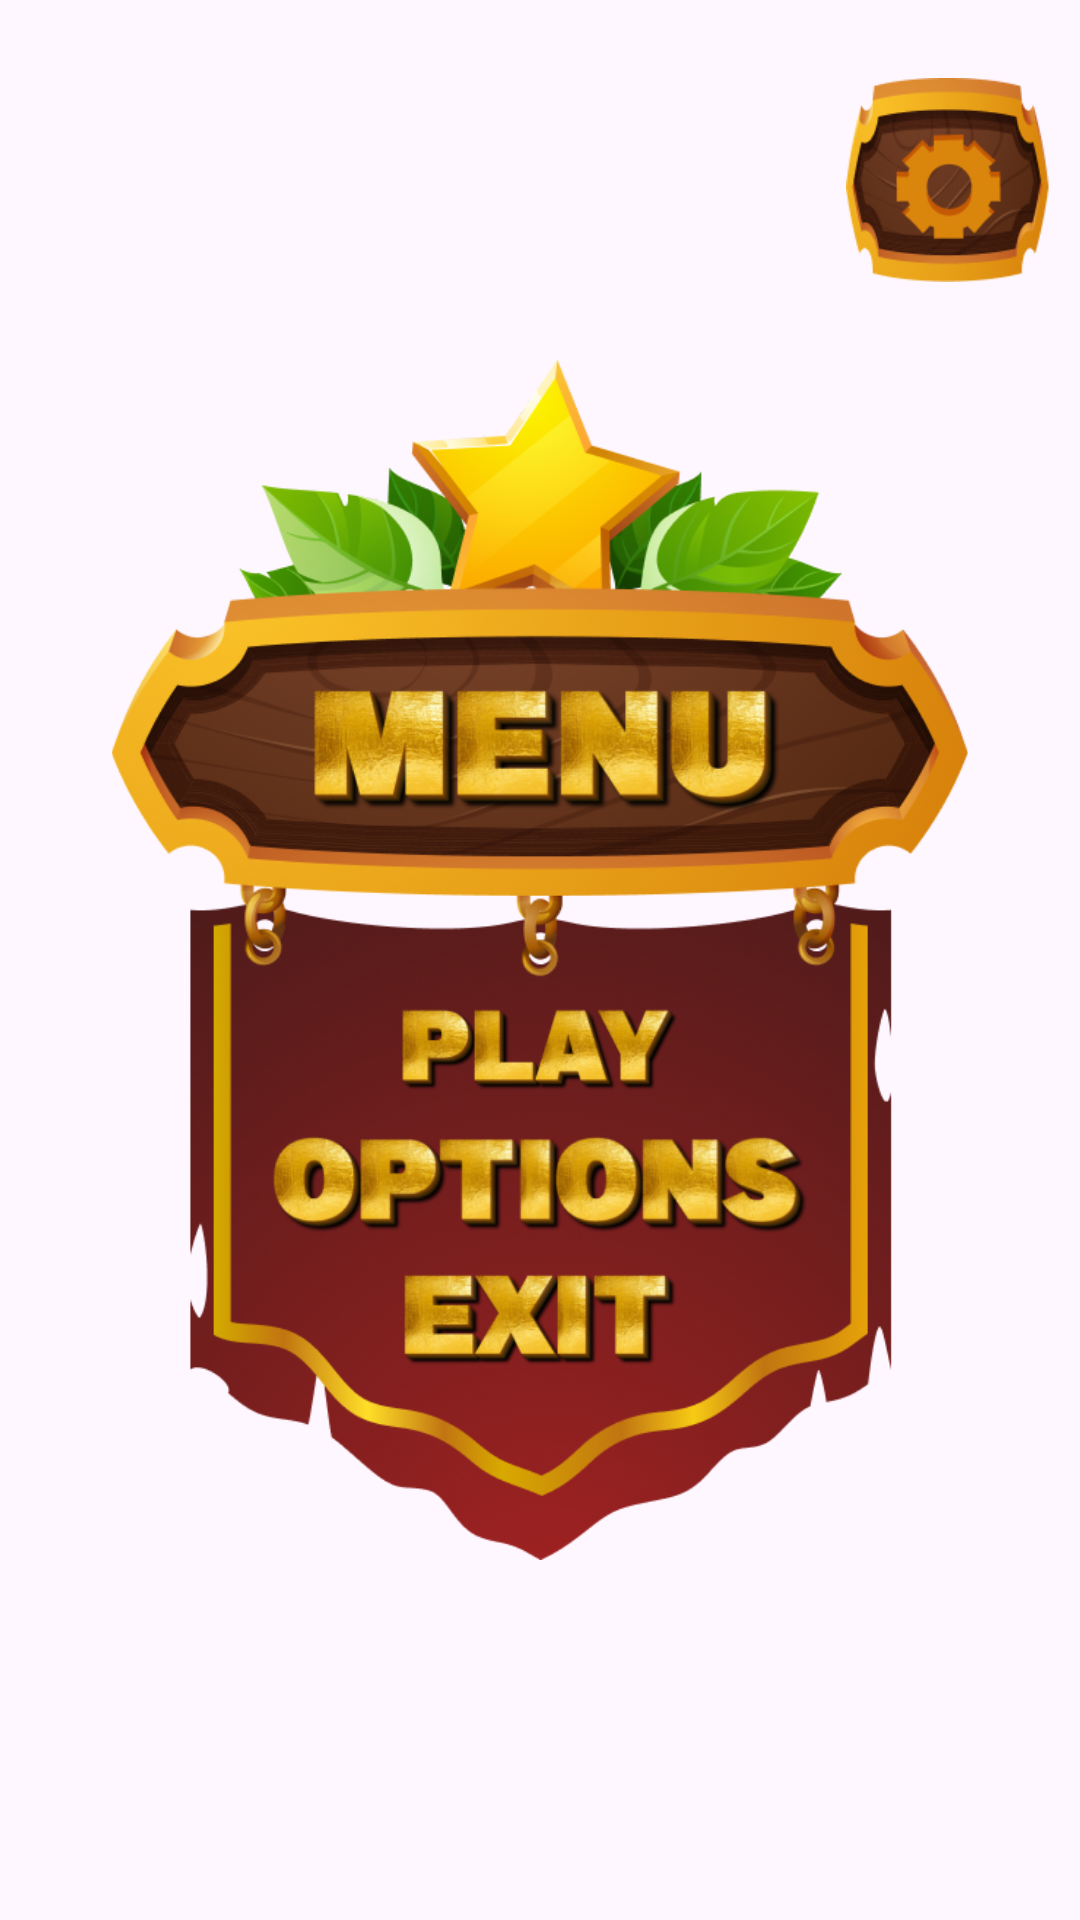

Locate icon controls on the screen. Image size 1080x1920, boxes as (x1, y1, x2, y2).
settings: (846, 78, 1049, 282)
